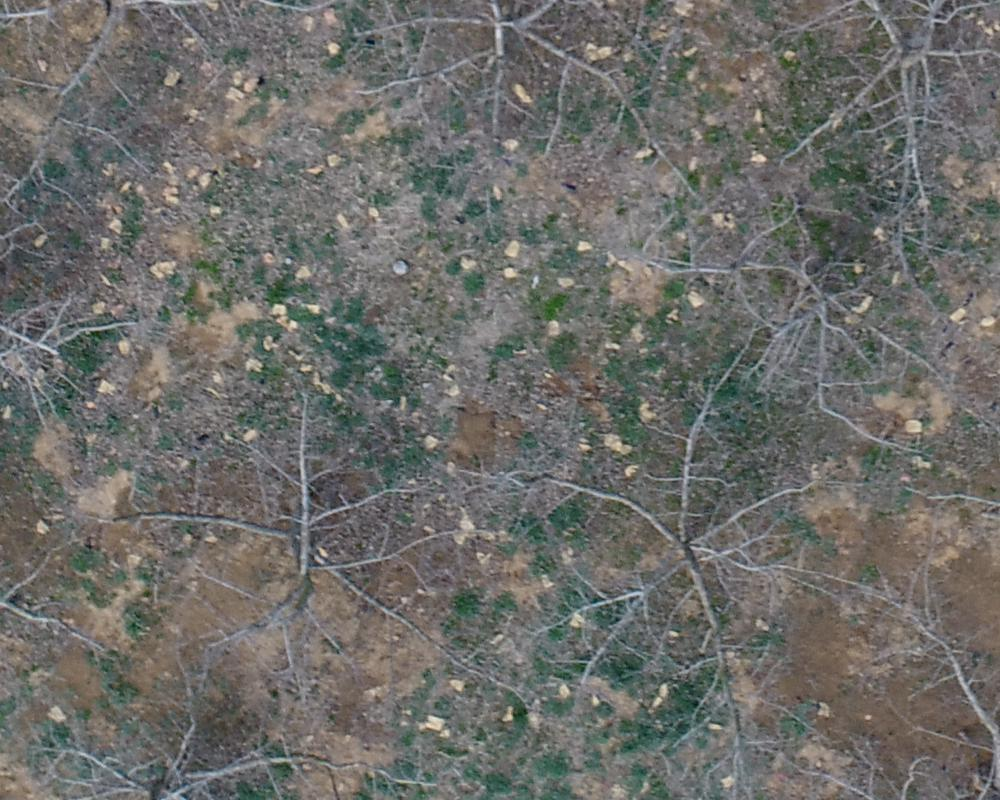apple: (462, 346, 882, 790), (66, 385, 532, 710), (620, 197, 970, 457), (323, 10, 719, 202), (736, 10, 990, 252), (44, 660, 436, 790)
